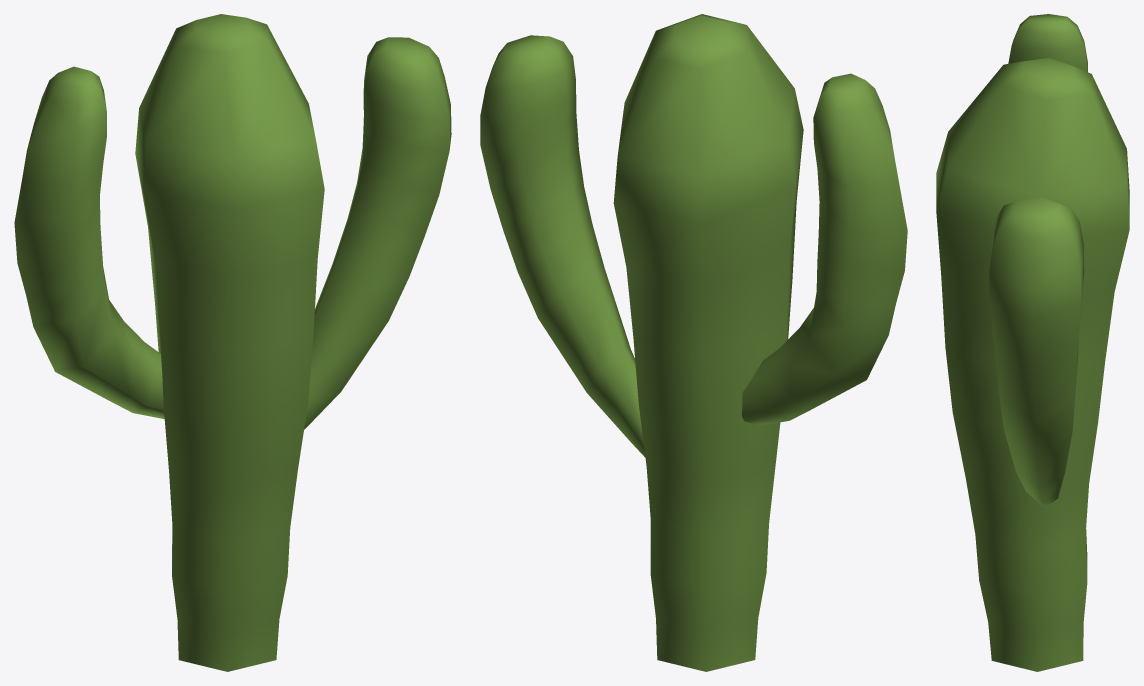
Rendered from a_z1_cactus_03.fbx.
3 views of the same model, side by side, from view 1: azimuth 30°, elevation 25°; view 2: azimuth 150°, elevation 25°; view 3: azimuth 270°, elevation 25° (orthographic). The views are drawn at different scales.
Parts seen in each view (by area): view 1: a_z1_Cactus3; view 2: a_z1_Cactus3; view 3: a_z1_Cactus3.
Boxes of the visible parts, x1=… form: a_z1_Cactus3: x1=14, y1=14, x2=451, y2=671; a_z1_Cactus3: x1=480, y1=14, x2=907, y2=671; a_z1_Cactus3: x1=936, y1=14, x2=1129, y2=671.
Bounding box in the file's own units: 167 × 232 × 69.71.
